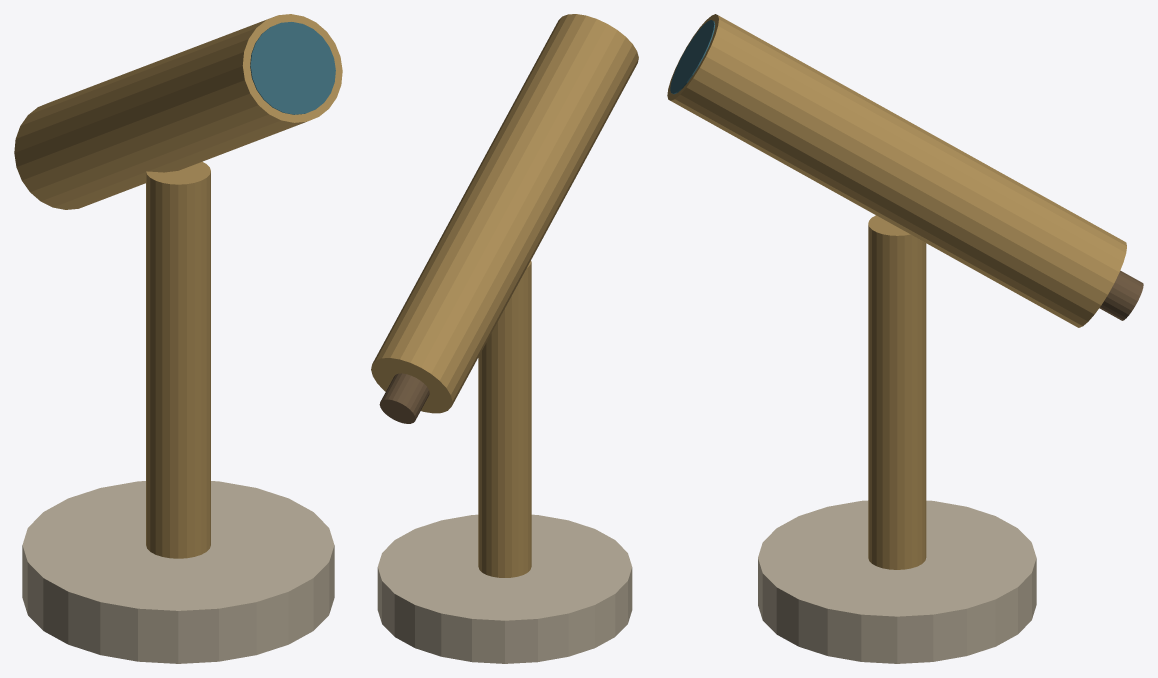
File: telescope.glb
3 views of the same model, side by side, from view 1: azimuth 30°, elevation 25°; view 2: azimuth 150°, elevation 25°; view 3: azimuth 270°, elevation 25° (orthographic). The views are drawn at different scales.
Visible parts, largest first — view 1: telescope pillar, telescope base, objective lens; view 2: telescope pillar, telescope base, eyepiece; view 3: telescope pillar, telescope base, objective lens, eyepiece.
Boxes of the visible parts, box(x1,y1,x2,y2) form: telescope pillar: box(14, 14, 342, 558); telescope base: box(22, 481, 334, 663); objective lens: box(250, 22, 335, 114); telescope pillar: box(371, 14, 638, 577); telescope base: box(377, 514, 632, 663); eyepiece: box(379, 373, 429, 423); telescope pillar: box(667, 14, 1126, 569); telescope base: box(758, 500, 1036, 663); objective lens: box(670, 20, 714, 94); eyepiece: box(1099, 270, 1143, 320).
Size of the model in its own units: 0.96 by 2.23 by 1.64.
